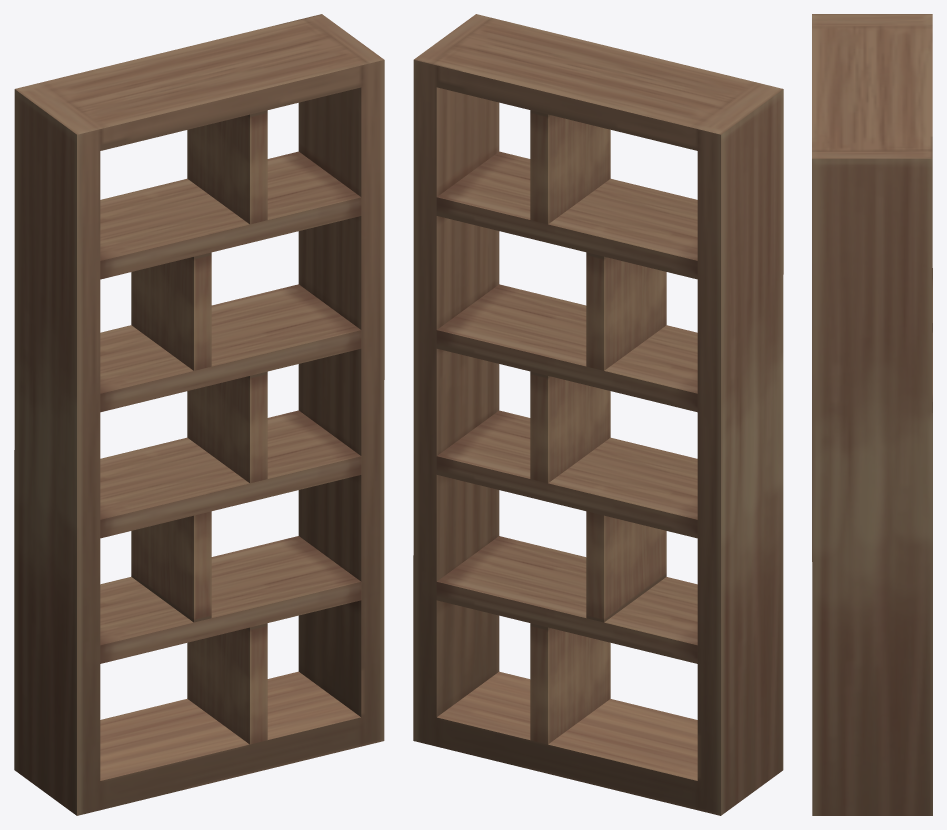
File: BookCase.fbx
The picture shows the model from 3 angles, left to right: view 1: azimuth 30°, elevation 25°; view 2: azimuth 150°, elevation 25°; view 3: azimuth 270°, elevation 25°; orthographic projection. The views are drawn at different scales.
Parts seen in each view (by area): view 1: BookCase; view 2: BookCase; view 3: BookCase.
Part boxes in pixels (x1=…): BookCase: x1=14, y1=14, x2=384, y2=815; BookCase: x1=413, y1=14, x2=783, y2=815; BookCase: x1=812, y1=14, x2=932, y2=815.
Bounding box in the file's own units: 0.9496 × 2.01 × 0.3354.
